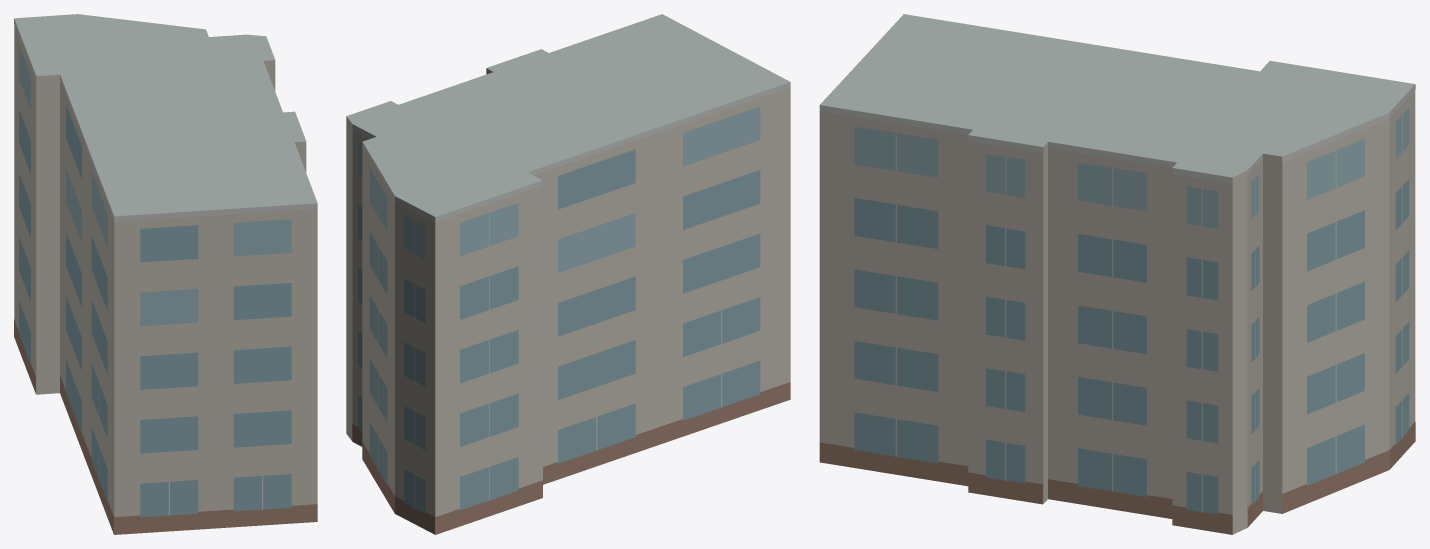
Rendered from survey-upis-32611035.glb.
3 renders of one model, left to right at view 1: azimuth 30°, elevation 25°; view 2: azimuth 150°, elevation 25°; view 3: azimuth 270°, elevation 25°, orthographic. The views are drawn at different scales.
Visible parts, largest first — view 1: survey-upis-32611035.tmp; view 2: survey-upis-32611035.tmp; view 3: survey-upis-32611035.tmp.
Part boxes in pixels (bbox=[...]): survey-upis-32611035.tmp: bbox=[14, 14, 317, 534]; survey-upis-32611035.tmp: bbox=[346, 14, 790, 534]; survey-upis-32611035.tmp: bbox=[819, 14, 1415, 534].
Bounding box in the file's own units: 14.29 × 14.55 × 21.99.
